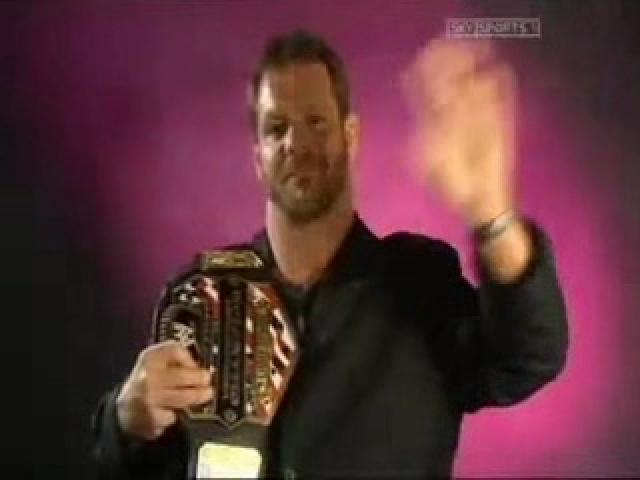L: (90, 29, 567, 479)
